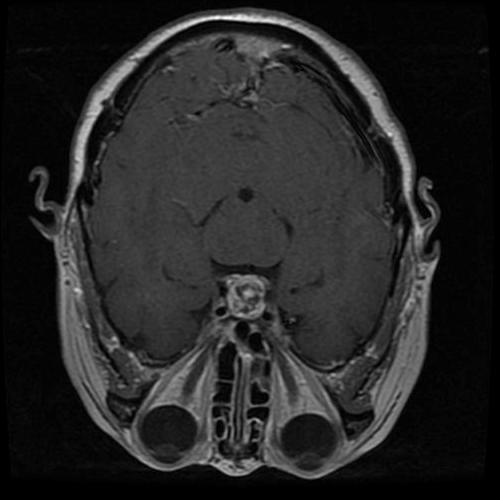Tumour-Pituitary: (215, 273, 276, 325)
